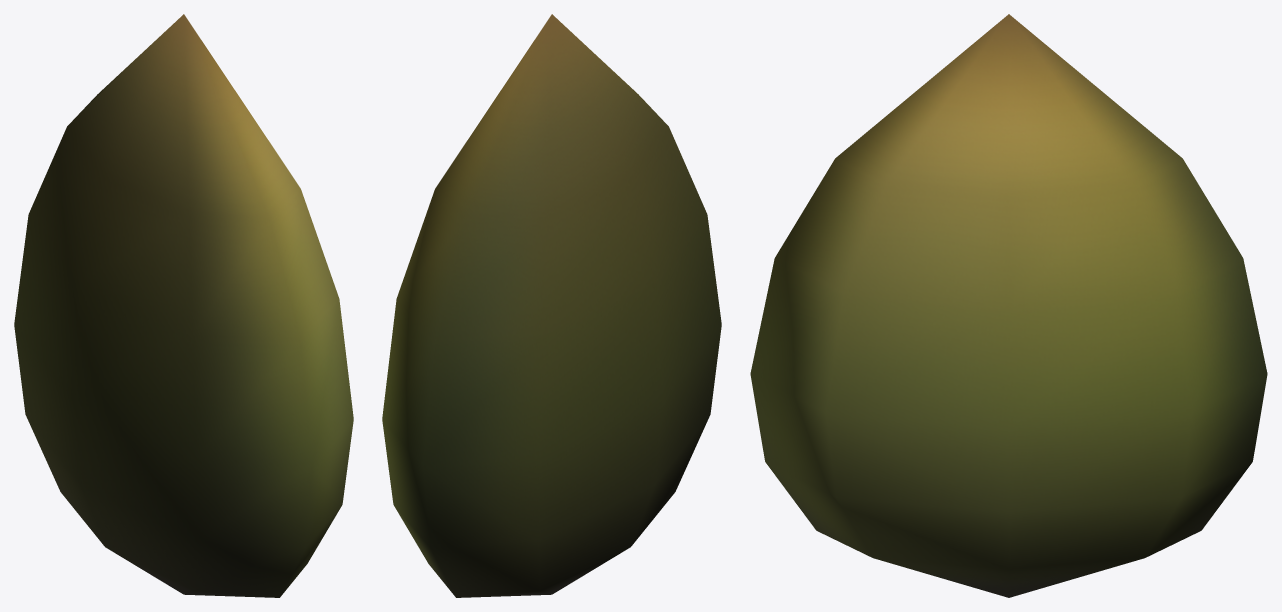
The model's file is Seed3.fbx.
3 views of the same model, side by side, from view 1: azimuth 30°, elevation 25°; view 2: azimuth 150°, elevation 25°; view 3: azimuth 270°, elevation 25° (orthographic).
Parts seen in each view (by area): view 1: Seed2; view 2: Seed2; view 3: Seed2.
Boxes of the visible parts, x1,y1,x2,y2 form: Seed2: (14,14,353,597); Seed2: (382,14,721,597); Seed2: (750,14,1267,597).
Size of the model in its own units: 12.91 by 32.09 by 25.76.
Materials: 1 (1 with a texture image).
